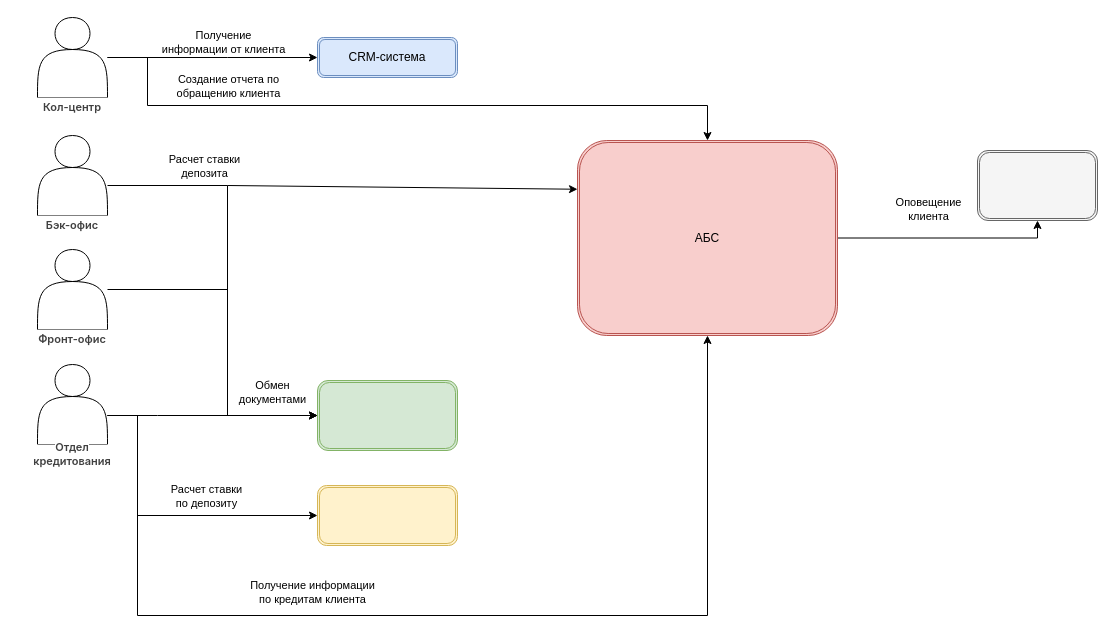
Image size: 1115x641. Some labels were removed from this diagram. The box of each missing label's shape, as (x1, y1, x2, y2) in pixels:
EXCEL: (316, 484, 458, 546)
СМС-оповещение: (976, 150, 1098, 220)
Электронная почта: (316, 380, 458, 450)
